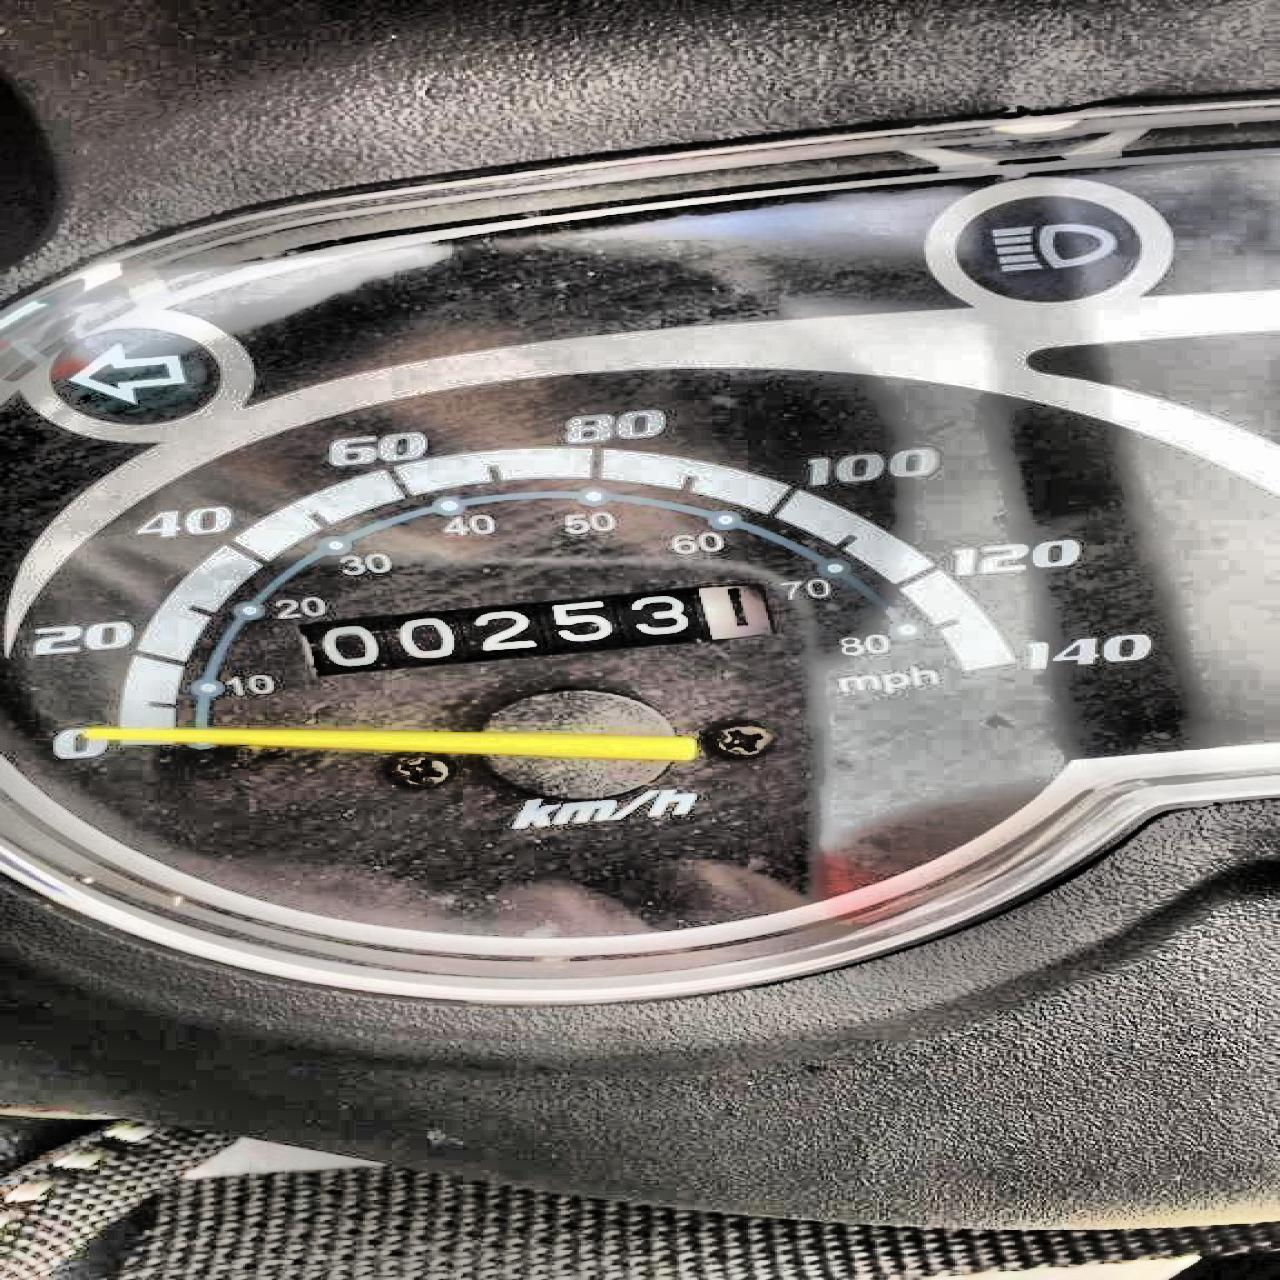0: (392, 615, 458, 659), (319, 624, 379, 666), (298, 595, 325, 615)
1: (719, 584, 753, 629)
2: (470, 607, 542, 653), (290, 599, 302, 618)
3: (624, 593, 693, 635)
5: (547, 599, 614, 642)
odometer: (290, 579, 779, 678)
